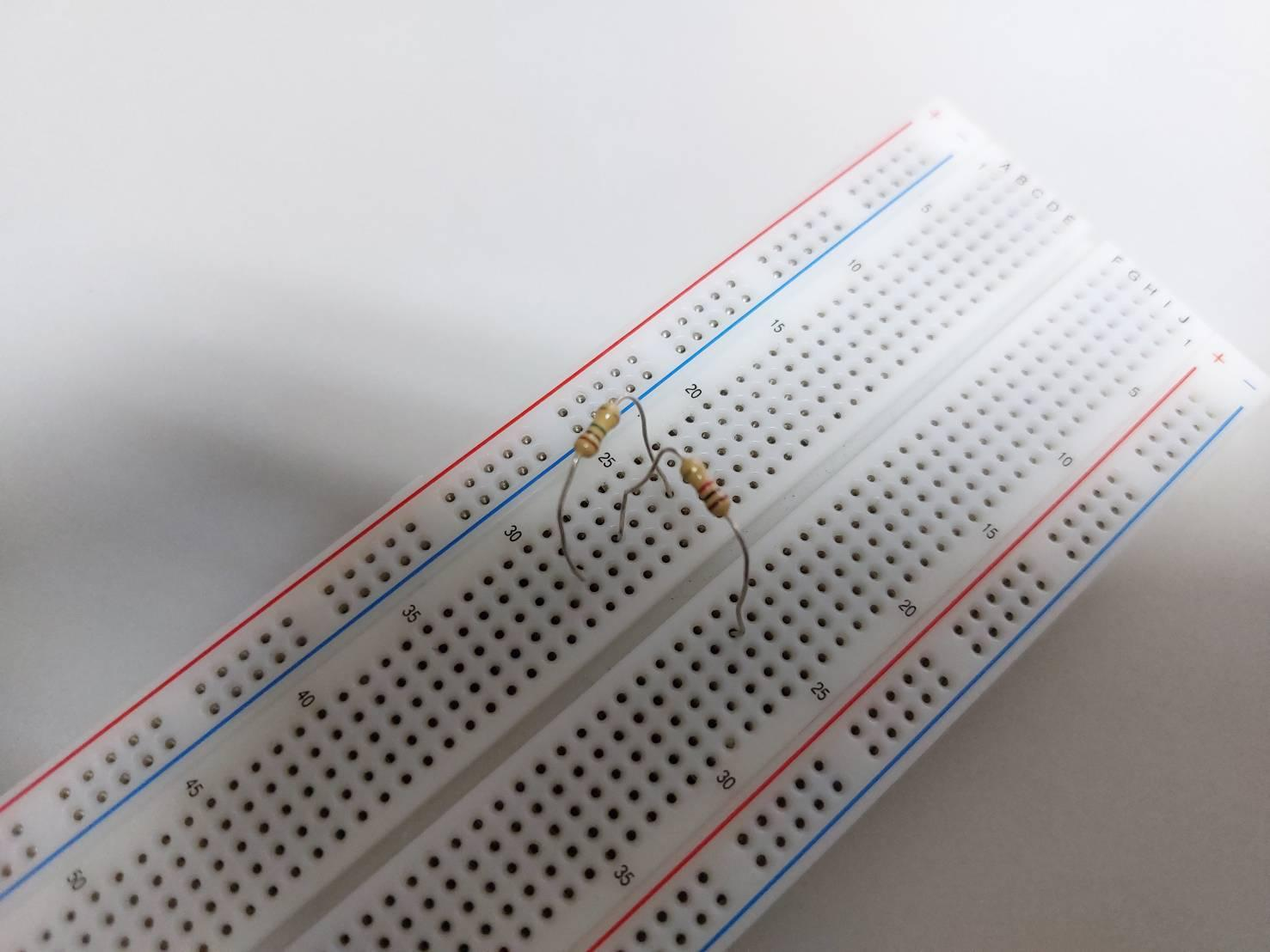resistor: (682, 456, 733, 519), (575, 401, 620, 459)
